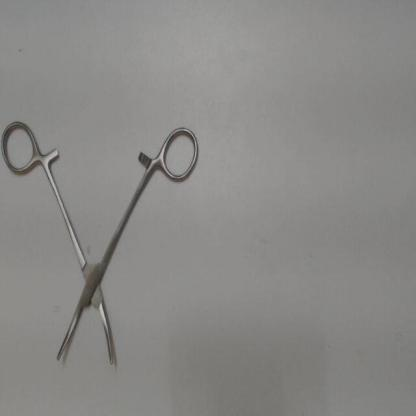Crile Artery Forceps: (0, 110, 209, 373)
